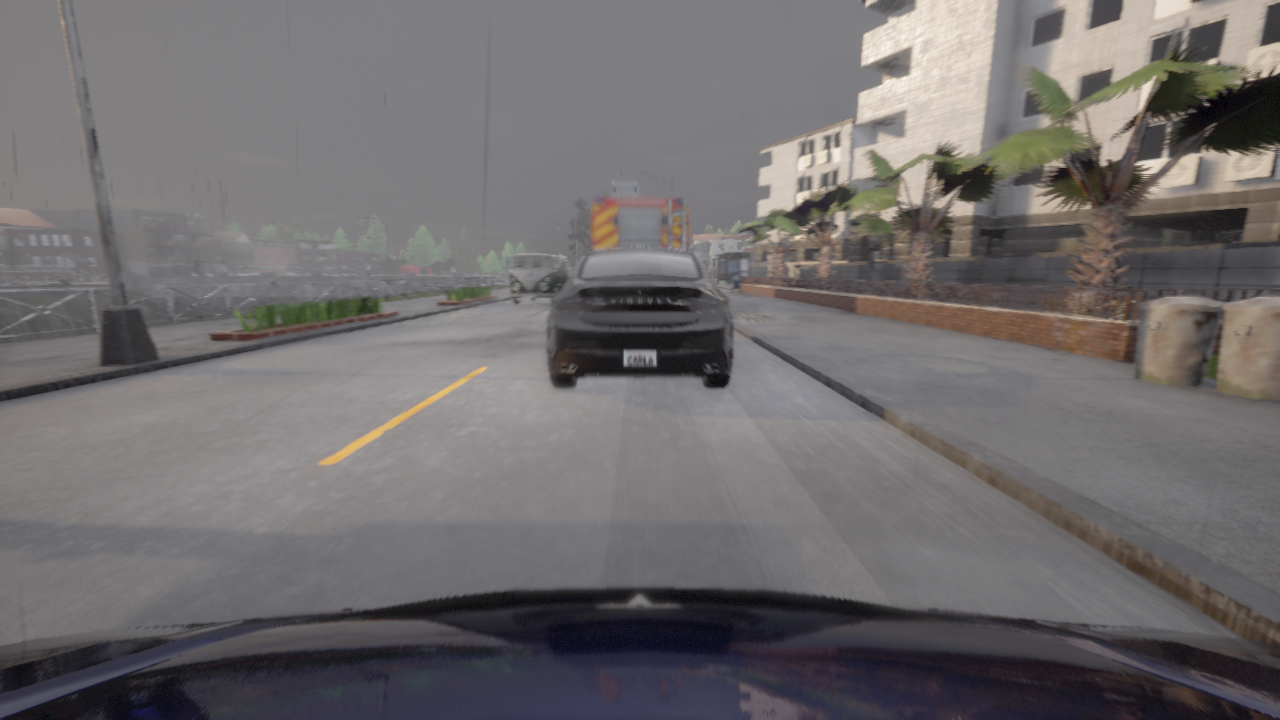cyclist: (0, 588, 1279, 719), (547, 247, 732, 387), (592, 182, 688, 250), (506, 253, 570, 304)
